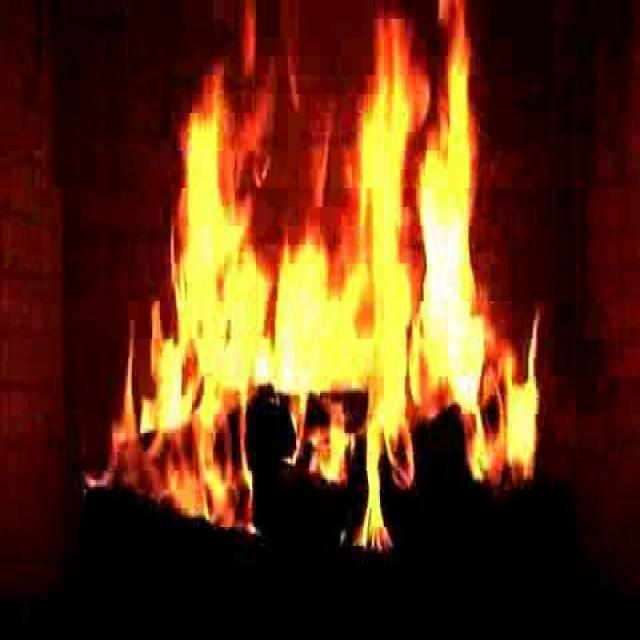Fire: (164, 44, 543, 517)
